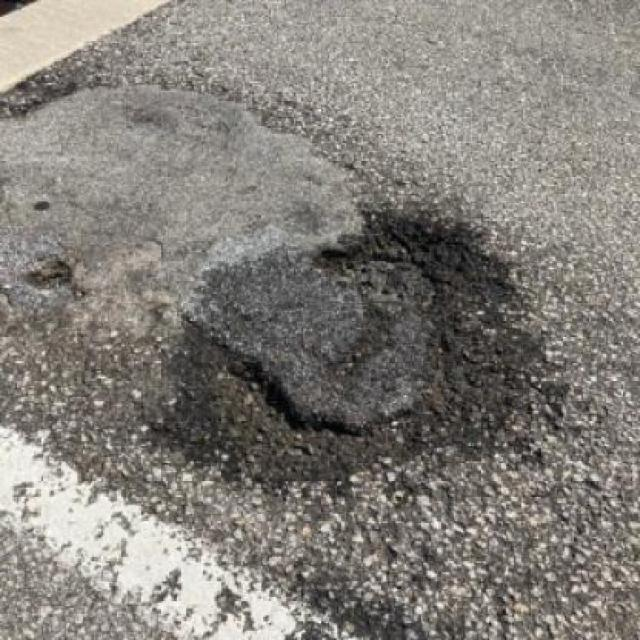Pothole: (168, 198, 555, 490)
